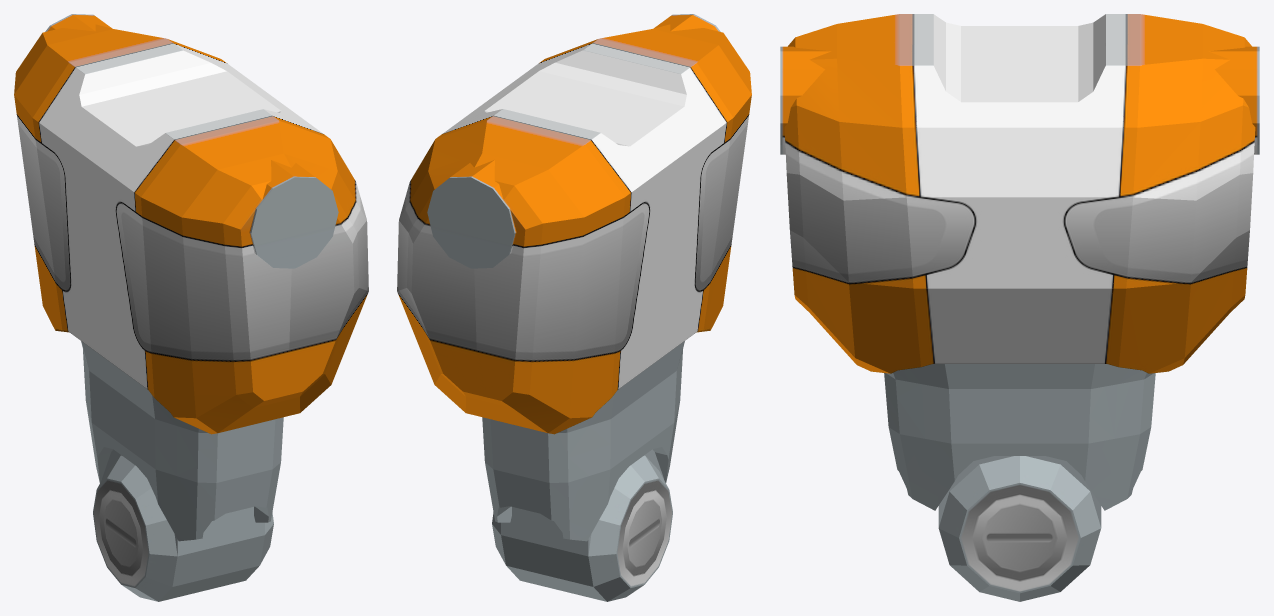
File: WAIST_R_S.dae
The picture shows the model from 3 angles, left to right: view 1: azimuth 30°, elevation 25°; view 2: azimuth 150°, elevation 25°; view 3: azimuth 270°, elevation 25°; orthographic projection. The views are drawn at different scales.
Parts seen in each view (by area): view 1: root_001, root; view 2: root_001, root; view 3: root, root_001.
Boxes of the visible parts, left/top/right/bottom form: root_001: left=14, top=14, right=294, bottom=601; root: left=72, top=14, right=368, bottom=590; root_001: left=471, top=14, right=751, bottom=601; root: left=397, top=14, right=693, bottom=590; root: left=780, top=44, right=1259, bottom=601; root_001: left=780, top=14, right=1259, bottom=64.
Size of the model in its own units: 0.2031 by 0.354 by 0.4353.
2 materials, 2 textured.
